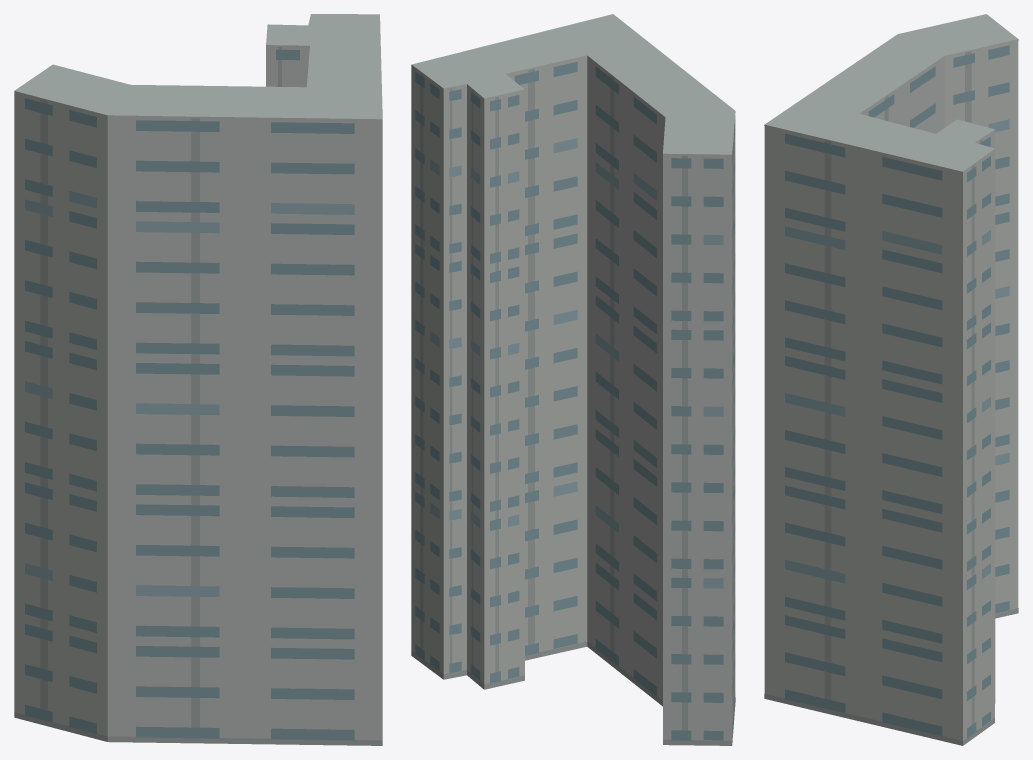
The model's file is residential-04ac7d31-0632-4f51-8353-c1c061f42b1c.glb.
3 views of the same model, side by side, from view 1: azimuth 30°, elevation 25°; view 2: azimuth 150°, elevation 25°; view 3: azimuth 270°, elevation 25° (orthographic). The views are drawn at different scales.
Parts seen in each view (by area): view 1: residential-04ac7d31-0632-4f51-8353-c1c061f42b1c.tmp; view 2: residential-04ac7d31-0632-4f51-8353-c1c061f42b1c.tmp; view 3: residential-04ac7d31-0632-4f51-8353-c1c061f42b1c.tmp.
Part boxes in pixels (<box>): residential-04ac7d31-0632-4f51-8353-c1c061f42b1c.tmp: <box>14,14,382,745</box>; residential-04ac7d31-0632-4f51-8353-c1c061f42b1c.tmp: <box>411,14,735,745</box>; residential-04ac7d31-0632-4f51-8353-c1c061f42b1c.tmp: <box>764,14,1018,745</box>.
Bounding box in the file's own units: 55.98 × 95 × 38.09.
